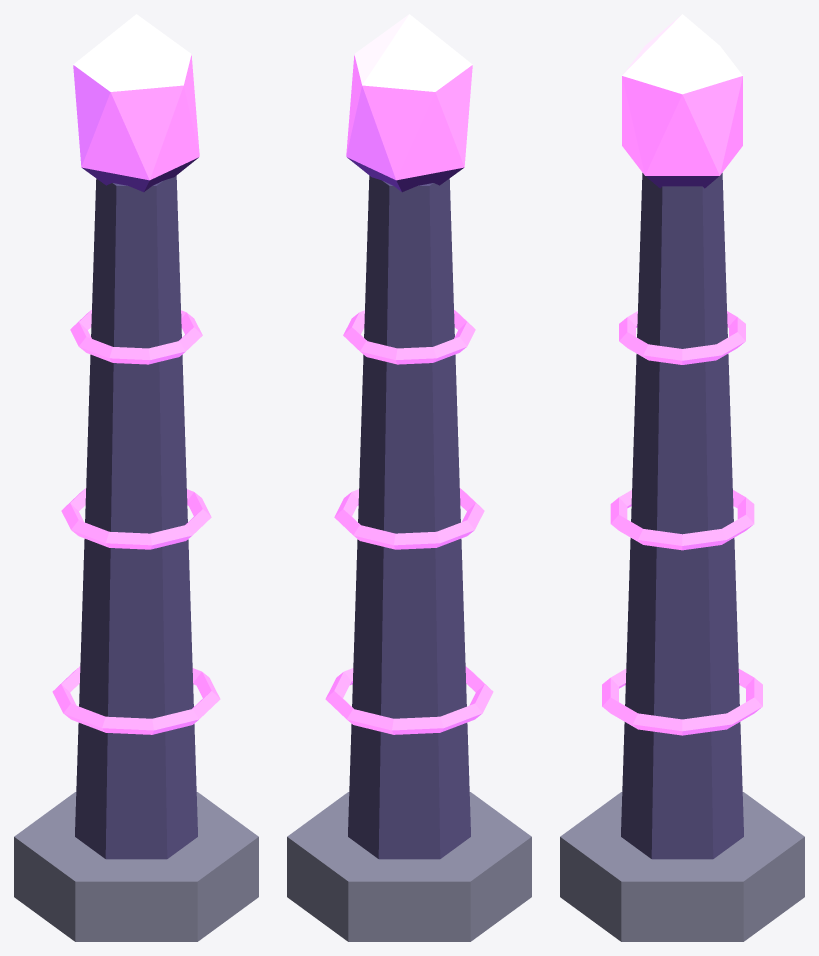
Rendered from Energy_Pylon.glb.
The picture shows the model from 3 angles, left to right: view 1: azimuth 30°, elevation 25°; view 2: azimuth 150°, elevation 25°; view 3: azimuth 270°, elevation 25°; orthographic projection.
Parts seen in each view (by area): view 1: Energy_Pylon; view 2: Energy_Pylon; view 3: Energy_Pylon.
Boxes of the visible parts, bbox=[...] form: Energy_Pylon: bbox=[14, 14, 258, 941]; Energy_Pylon: bbox=[287, 14, 531, 941]; Energy_Pylon: bbox=[560, 14, 804, 941].
Bounding box in the file's own units: 0.9526 × 4.38 × 1.1.
1 material, 1 textured.
